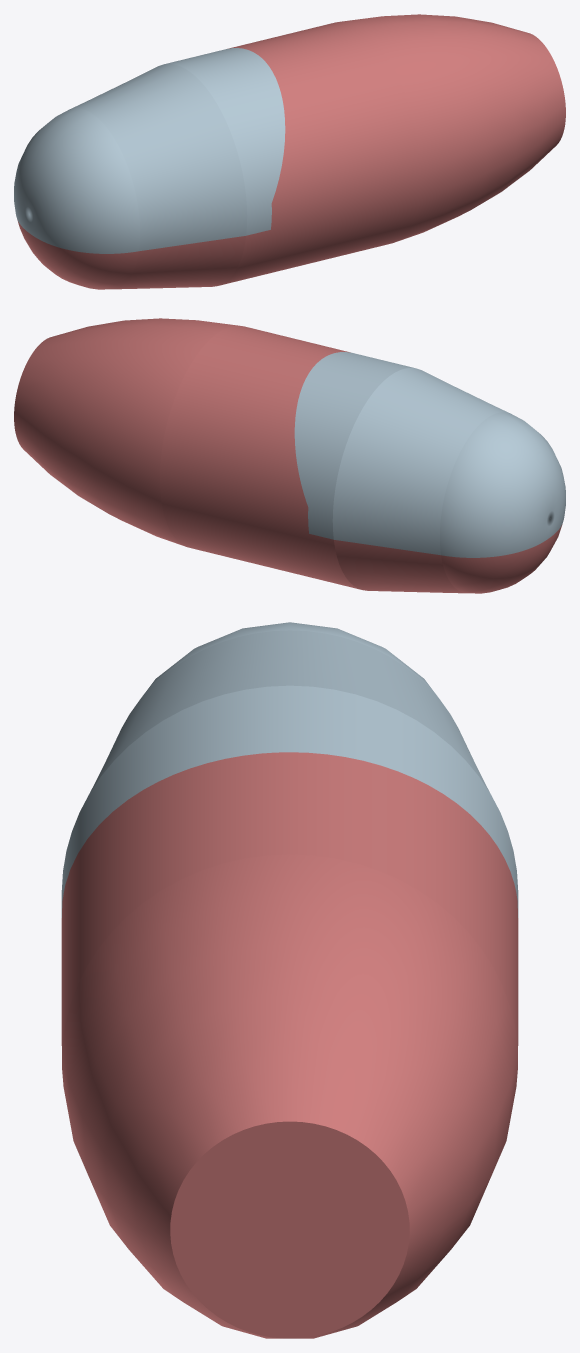
The model's file is step_05.glb.
The picture shows the model from 3 angles, top to bottom: view 1: azimuth 30°, elevation 25°; view 2: azimuth 150°, elevation 25°; view 3: azimuth 270°, elevation 25°; orthographic projection. The views are drawn at different scales.
Visible parts, largest first — view 1: removed__canopy glazing, part__canopy glazing; view 2: removed__canopy glazing, part__canopy glazing; view 3: removed__canopy glazing, part__canopy glazing.
Boxes of the visible parts, x1,y1,x2,y2 form: removed__canopy glazing: [17, 14, 565, 289]; part__canopy glazing: [14, 48, 285, 253]; removed__canopy glazing: [14, 318, 562, 593]; part__canopy glazing: [294, 352, 565, 557]; removed__canopy glazing: [61, 752, 518, 1338]; part__canopy glazing: [61, 622, 518, 917].
Bounding box in the file's own units: 4103 × 1600 × 1600.
